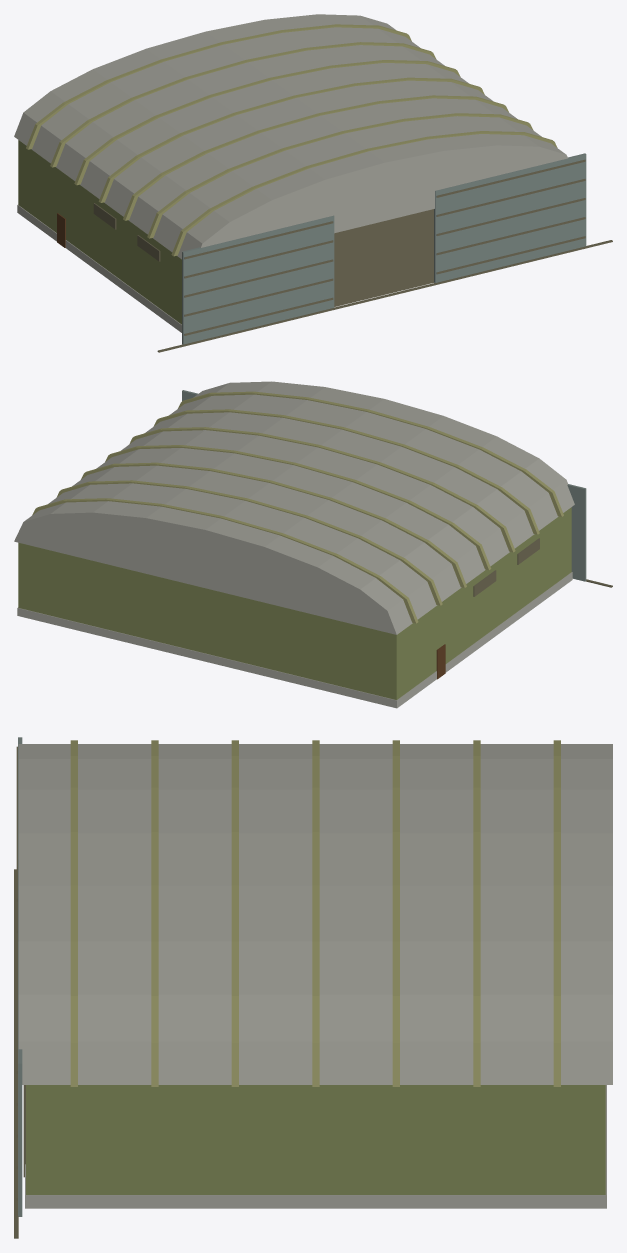
Rendered from SM_Hangar_v1_LOD0.fbx.
3 views of the same model, one above another, from view 1: azimuth 30°, elevation 25°; view 2: azimuth 150°, elevation 25°; view 3: azimuth 270°, elevation 25° (orthographic). The views are drawn at different scales.
Visible parts, largest first — view 1: SM_hangar_v1_LOD0, Porton_O, Porton_E; view 2: SM_hangar_v1_LOD0, Porton_O; view 3: SM_hangar_v1_LOD0, Porton_E.
Boxes of the visible parts, bbox=[...] form: SM_hangar_v1_LOD0: bbox=[14, 14, 612, 352]; Porton_O: bbox=[182, 215, 334, 344]; Porton_E: bbox=[434, 153, 586, 282]; SM_hangar_v1_LOD0: bbox=[14, 381, 612, 708]; Porton_O: bbox=[567, 484, 586, 581]; SM_hangar_v1_LOD0: bbox=[14, 740, 612, 1238]; Porton_E: bbox=[16, 941, 22, 1216].
Bounding box in the file's own units: 36 × 10.18 × 24.8.
